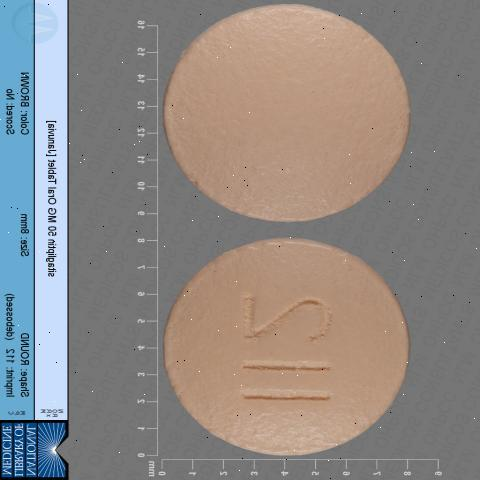Pill: (157, 228, 434, 459), (163, 0, 428, 234)
